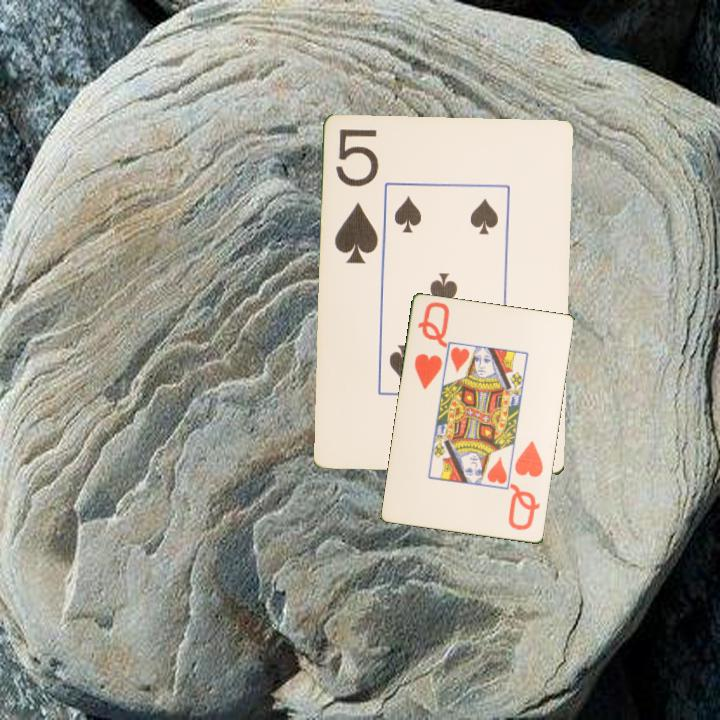5s: (332, 126, 382, 268)
Qh: (505, 438, 546, 533), (411, 299, 452, 393)
